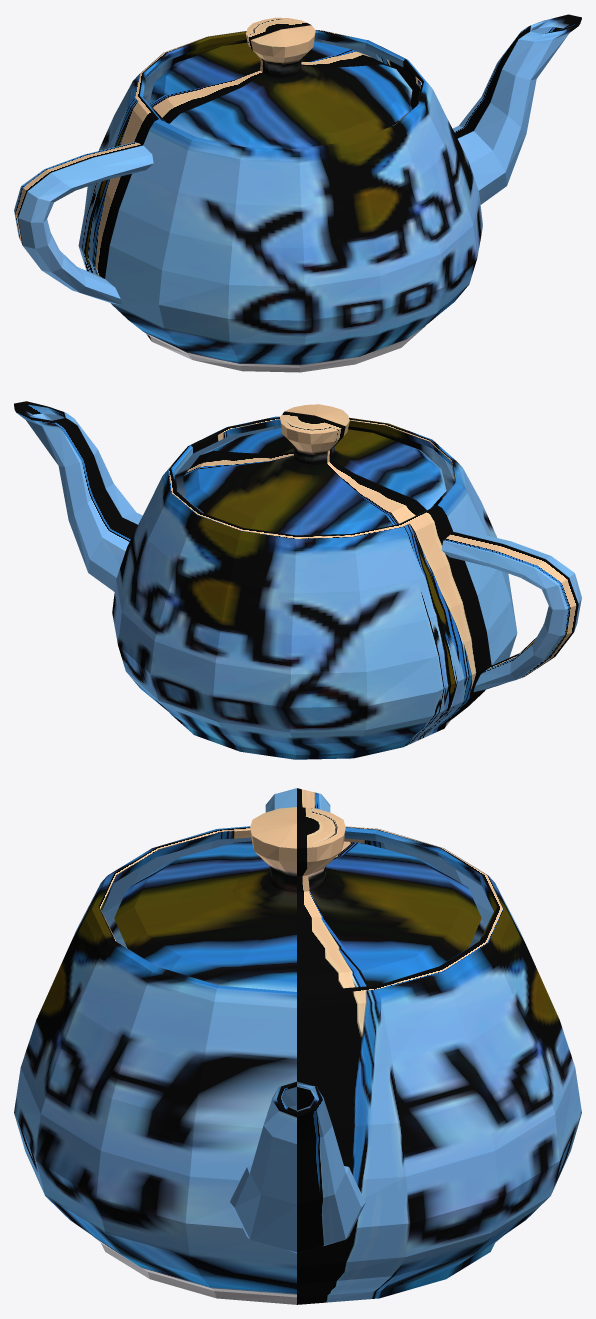
File: Teapot.glb
The picture shows the model from 3 angles, top to bottom: view 1: azimuth 30°, elevation 25°; view 2: azimuth 150°, elevation 25°; view 3: azimuth 270°, elevation 25°; orthographic projection. The views are drawn at different scales.
Visible parts, largest first — view 1: Teapot; view 2: Teapot; view 3: Teapot.
Boxes of the visible parts, <box> form: Teapot: <box>14,14,581,372</box>; Teapot: <box>14,401,581,759</box>; Teapot: <box>14,788,581,1304</box>.
Bounding box in the file's own units: 131 × 63.94 × 81.36.
1 material, 1 textured.
